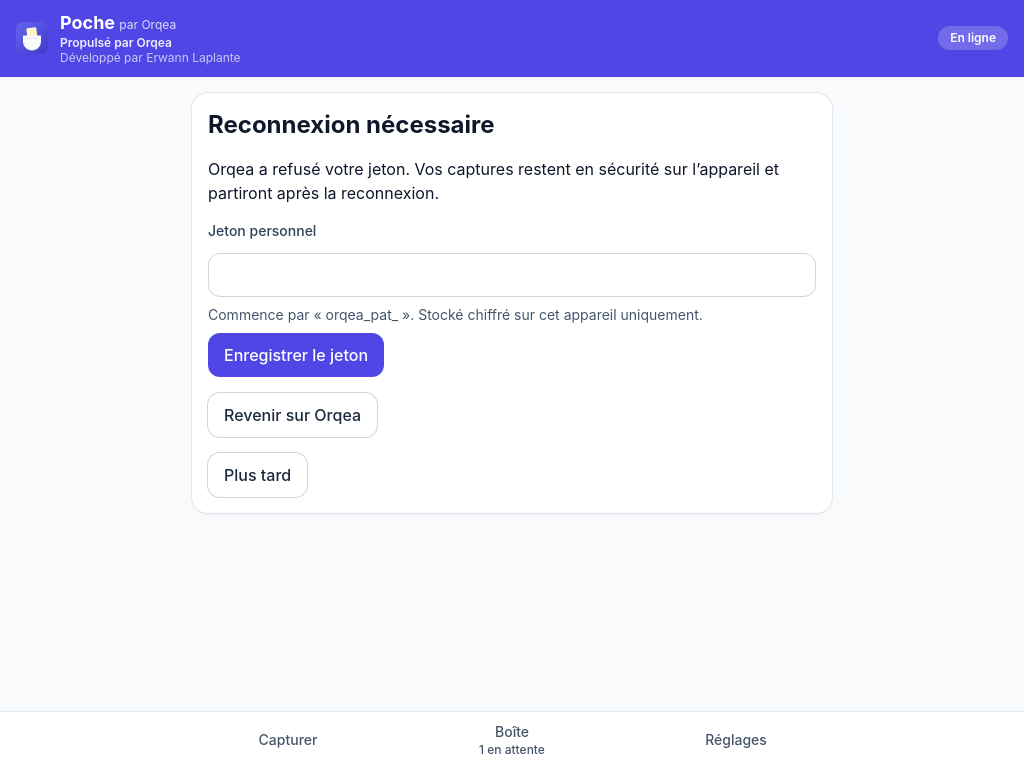
Test: App › shows the reconnection screen on 401, which can be postponed
The width and height of the screenshot is (1024, 768).
Later steps or results of the test are not shown.
Check: the heading "Reconnexion nécessaire" is shown, box [208,110,494,138]
Click the button "Plus tard" at {"x": 258, "y": 474}, box [208,452,307,496]
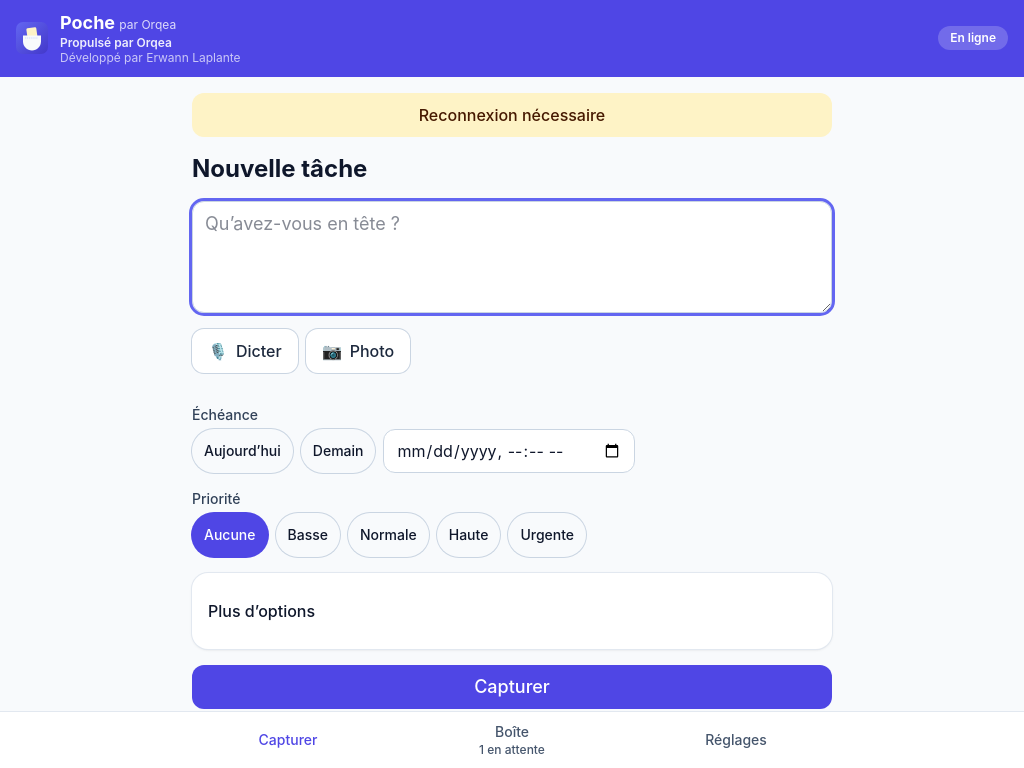
Check: the heading "Nouvelle tâche" is shown, box [192,154,367,182]
